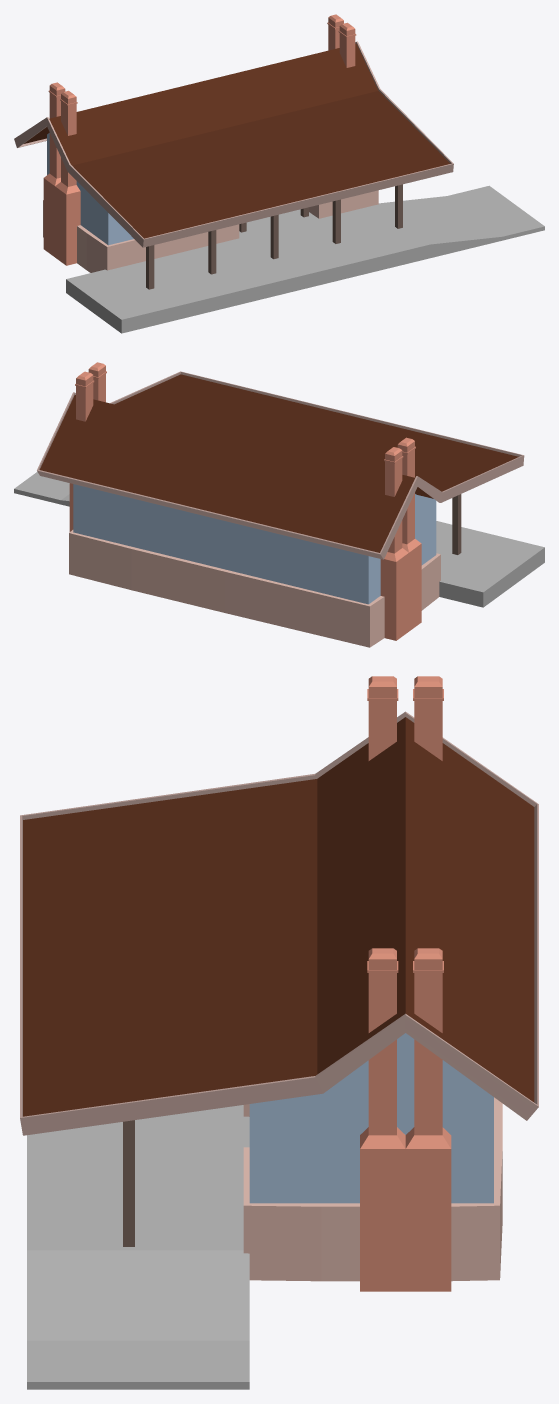
The model's file is Station.fbx.
The picture shows the model from 3 angles, top to bottom: view 1: azimuth 30°, elevation 25°; view 2: azimuth 150°, elevation 25°; view 3: azimuth 270°, elevation 25°; orthographic projection. The views are drawn at different scales.
Parts seen in each view (by area): view 1: Roof.001, Platform, StationMain, Chimney.001, Columns.001, Chimney.002; view 2: Roof.001, StationMain, Platform, Chimney.001, Chimney.002, Columns.001; view 3: Roof.001, Platform, StationMain, Chimney.002, Chimney.001, Columns.001.
Boxes of the visible parts, bbox=[...] form: Roof.001: bbox=[14, 41, 453, 247]; Platform: bbox=[66, 185, 544, 333]; StationMain: bbox=[43, 133, 378, 272]; Chimney.001: bbox=[43, 82, 80, 265]; Columns.001: bbox=[146, 184, 402, 289]; Chimney.002: bbox=[327, 14, 356, 67]; Roof.001: bbox=[37, 371, 524, 559]; StationMain: bbox=[69, 484, 440, 647]; Platform: bbox=[14, 472, 544, 607]; Chimney.001: bbox=[380, 437, 421, 640]; Chimney.002: bbox=[69, 362, 106, 531]; Columns.001: bbox=[452, 494, 461, 554]; Roof.001: bbox=[20, 711, 538, 1135]; Platform: bbox=[27, 1105, 249, 1389]; StationMain: bbox=[243, 1033, 502, 1281]; Chimney.002: bbox=[360, 948, 451, 1291]; Chimney.001: bbox=[367, 676, 443, 760]; Columns.001: bbox=[123, 1120, 134, 1246].
Size of the model in its own units: 1000 by 375 by 531.
